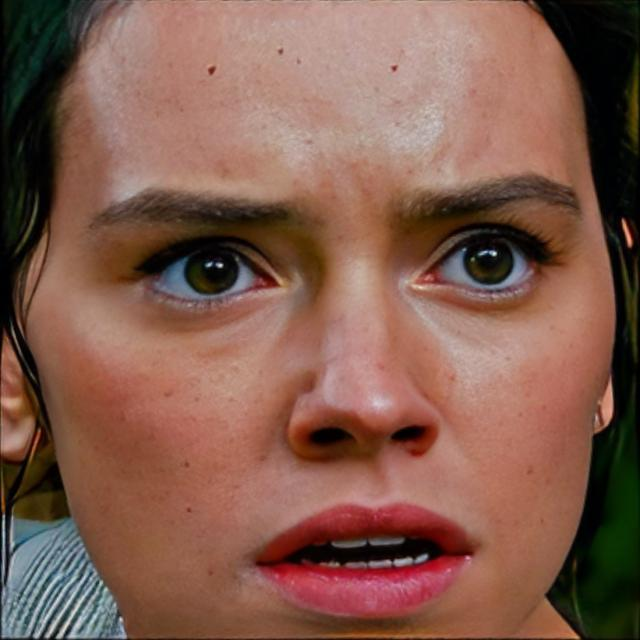fear: (12, 0, 620, 640)
